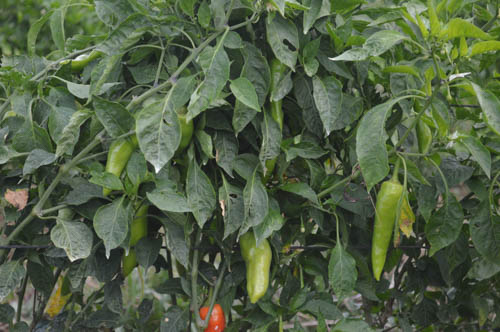ChiliPepper: (372, 179, 404, 281), (124, 202, 154, 272), (241, 232, 270, 301), (105, 139, 140, 190)
